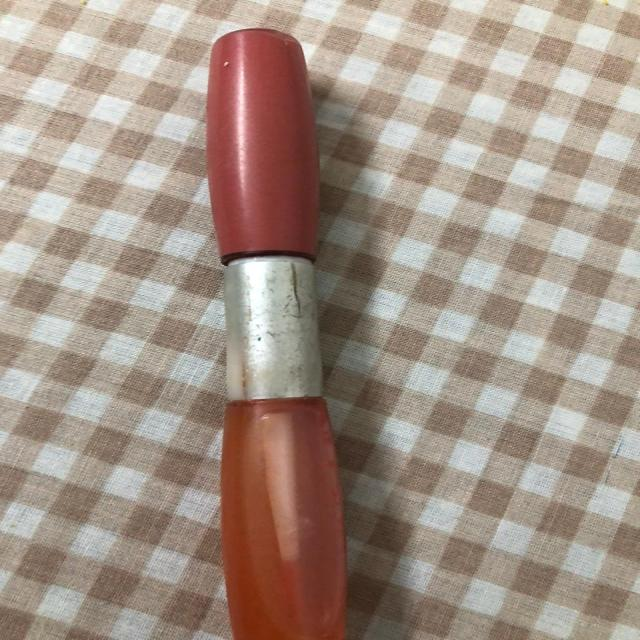lip stick: (174, 25, 404, 640)
